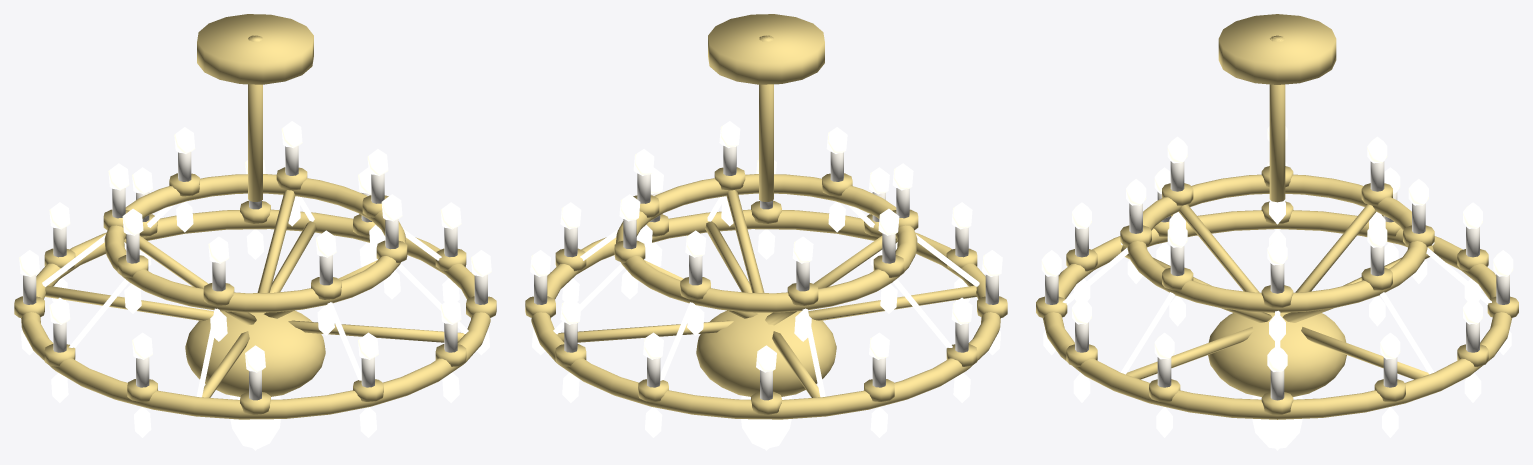
Rendered from pc_chandelier.glb.
The picture shows the model from 3 angles, left to right: view 1: azimuth 30°, elevation 25°; view 2: azimuth 150°, elevation 25°; view 3: azimuth 270°, elevation 25°; orthographic projection.
Visible parts, largest first — view 1: pc_chandelier; view 2: pc_chandelier; view 3: pc_chandelier.
Boxes of the visible parts, <box> form: pc_chandelier: <box>14,14,496,450</box>; pc_chandelier: <box>525,14,1007,450</box>; pc_chandelier: <box>1036,14,1518,450</box>.
Size of the model in its own units: 2.45 by 2.3 by 2.46.
